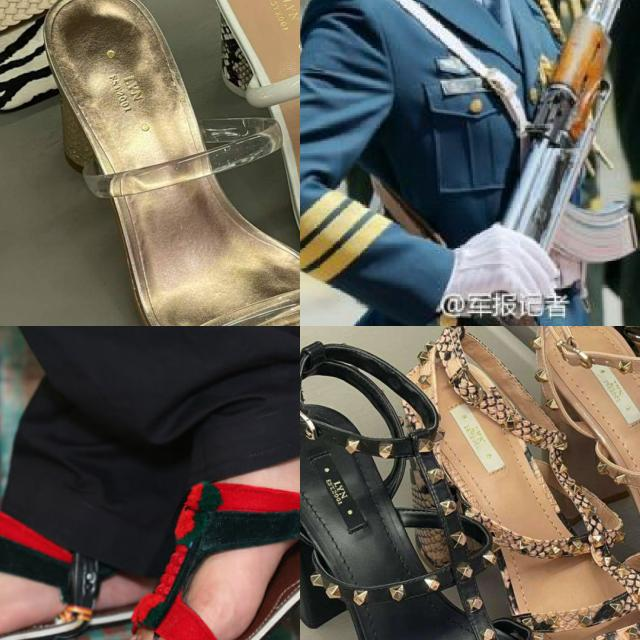Sandals: (300, 326, 597, 640), (16, 0, 300, 326), (525, 326, 640, 640), (208, 0, 300, 326), (0, 493, 172, 640)
hand_glove: (445, 224, 561, 312)
person: (319, 0, 608, 326)
